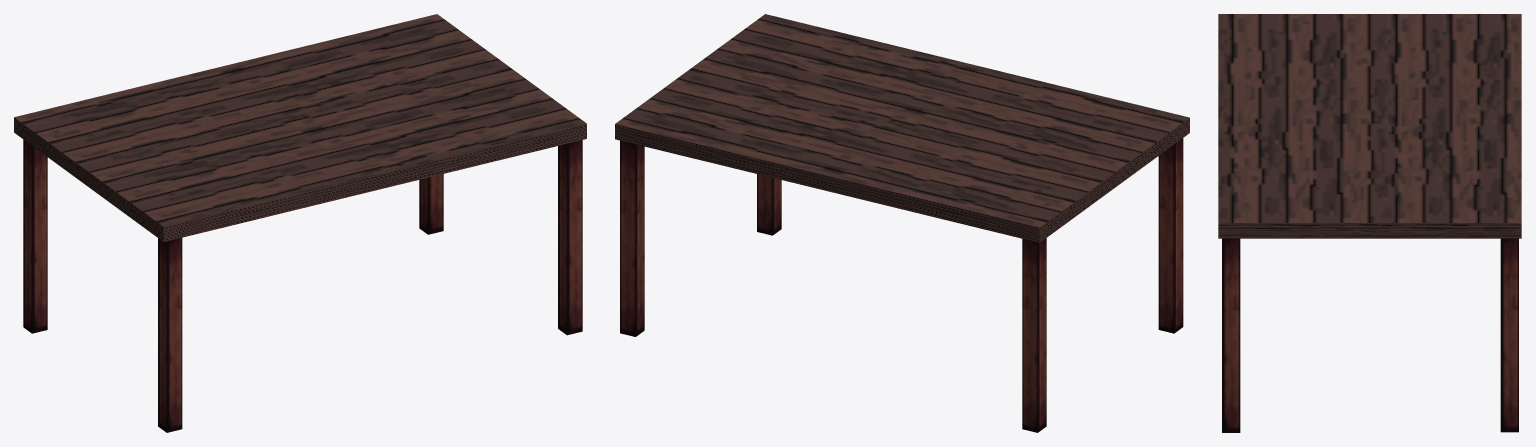
Rendered from table.glb.
3 renders of one model, left to right at view 1: azimuth 30°, elevation 25°; view 2: azimuth 150°, elevation 25°; view 3: azimuth 270°, elevation 25°, orthographic.
Parts seen in each view (by area): view 1: Cube.004, Cube.002, Cube.001, Cube.006, Cube.003; view 2: Cube.004, Cube.002, Cube.003, Cube.006, Cube.001; view 3: Cube.004, Cube.001, Cube.003.
Boxes of the visible parts, x1,y1,x2,y2 form: Cube.004: (14,14,586,241); Cube.002: (158,238,182,432); Cube.001: (558,140,582,335); Cube.006: (23,139,47,333); Cube.003: (419,174,443,234); Cube.004: (615,14,1189,242); Cube.002: (1158,138,1183,333); Cube.003: (620,140,644,336); Cube.006: (1022,238,1046,432); Cube.001: (757,174,781,235); Cube.004: (1218,14,1521,238); Cube.001: (1222,238,1240,432); Cube.003: (1500,238,1518,432).
Size of the model in its own units: 1.09 by 0.5134 by 0.6678.
Materials: 5 (5 with a texture image).
